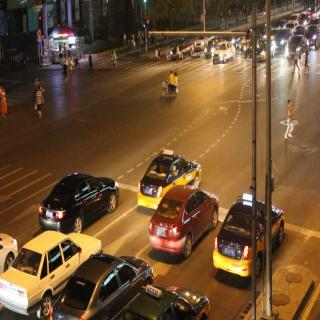Car: (207, 178, 283, 284), (0, 228, 92, 312), (59, 245, 147, 318), (35, 171, 126, 231), (151, 182, 213, 259), (132, 148, 205, 202), (281, 28, 308, 67), (209, 35, 235, 71), (250, 28, 272, 66), (167, 37, 196, 63), (273, 24, 292, 49)
